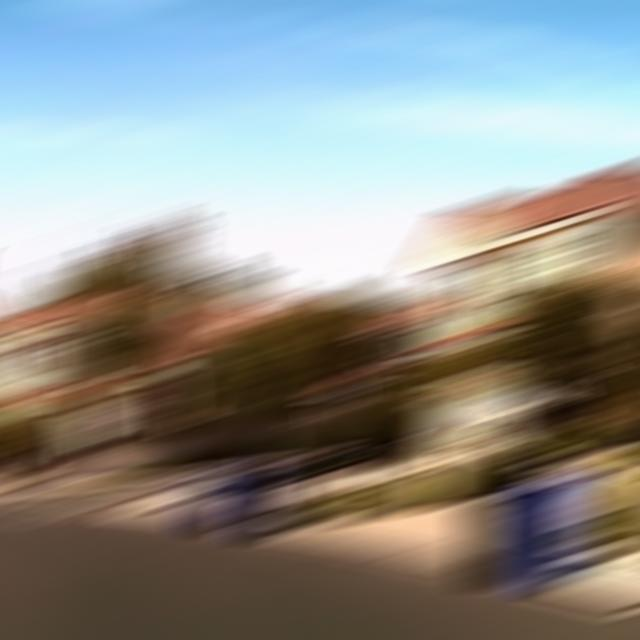stop: (110, 398, 154, 423)
